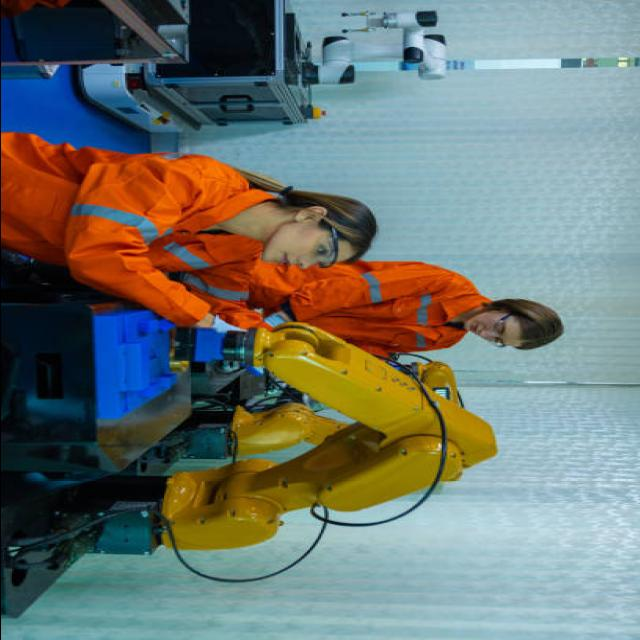Robotic-arm: (148, 318, 504, 564)
